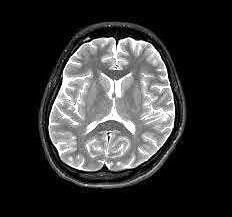Normal_Brain: (4, 2, 232, 217)
